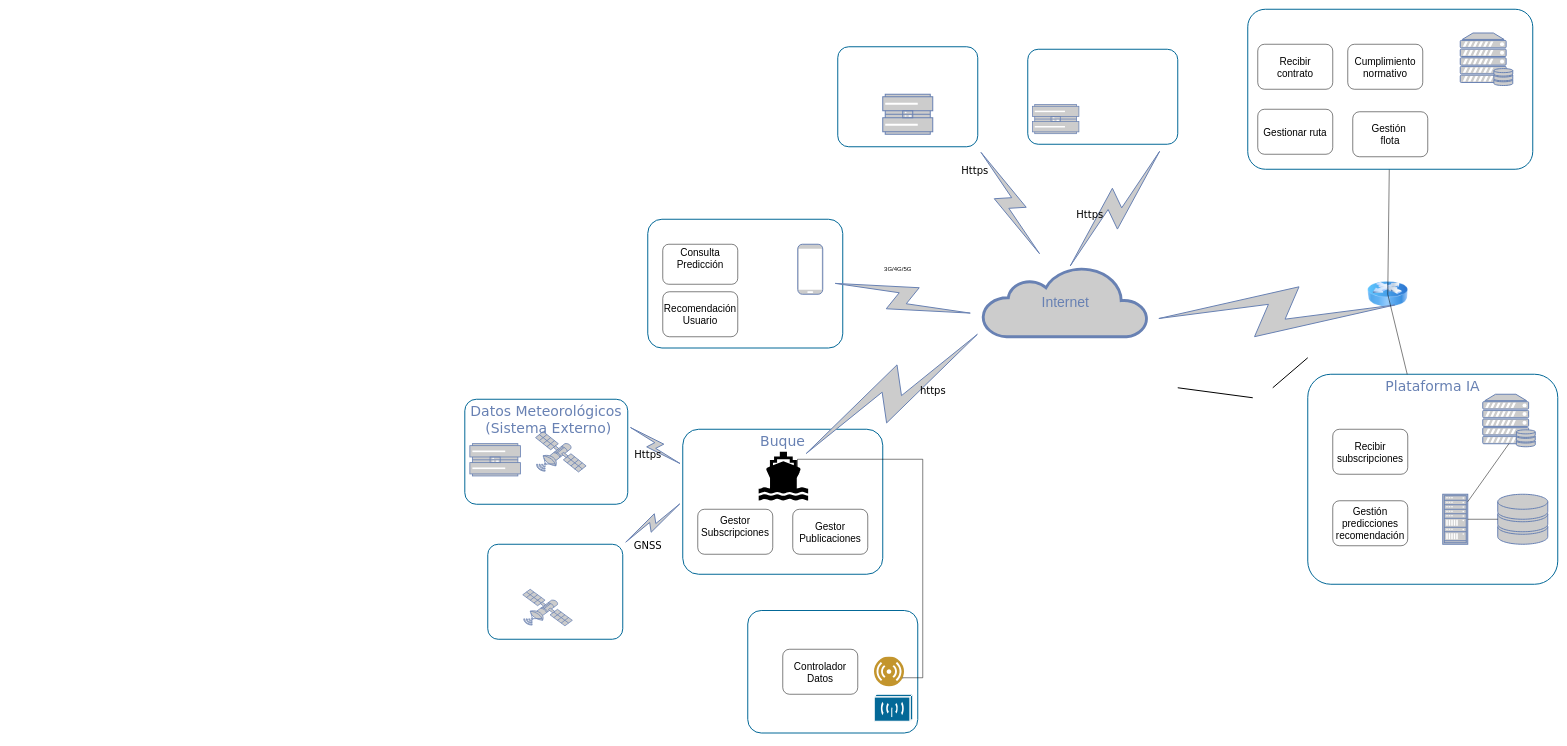
Image size: 1567x746. Some labels were removed from this diagram. The shapes that lost their labels are listed below. From the top down, each one's box as (x1, y1, x2, y2) in pixels, then its label:
(837, 46, 978, 147): Puertos (Sistema Externo)
(1027, 48, 1178, 144): IMO (Sistema Externo)
(1247, 8, 1533, 170): Operador
(647, 218, 843, 348): App Móvil Capitán
(1368, 274, 1408, 314): LAN/WAN
(1442, 494, 1468, 544): Modelo DL
(487, 544, 623, 640): GPS (Sistema Externo)
(747, 610, 918, 733): Sensor
